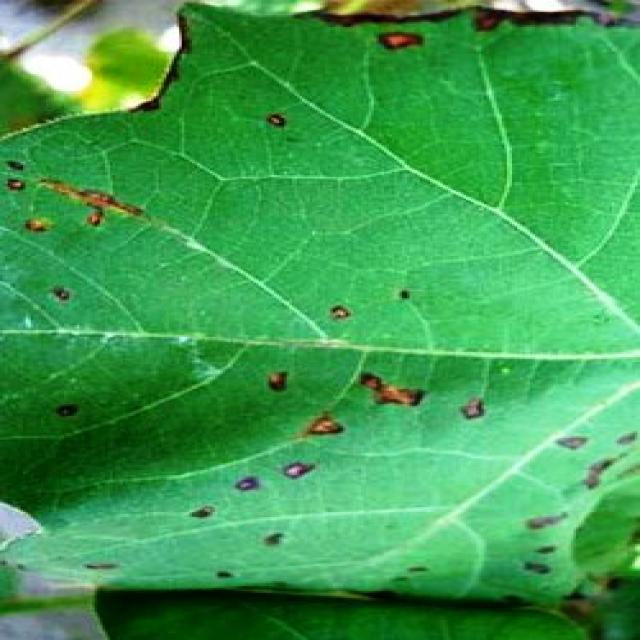Bacterial Blight: (209, 273, 608, 582)
